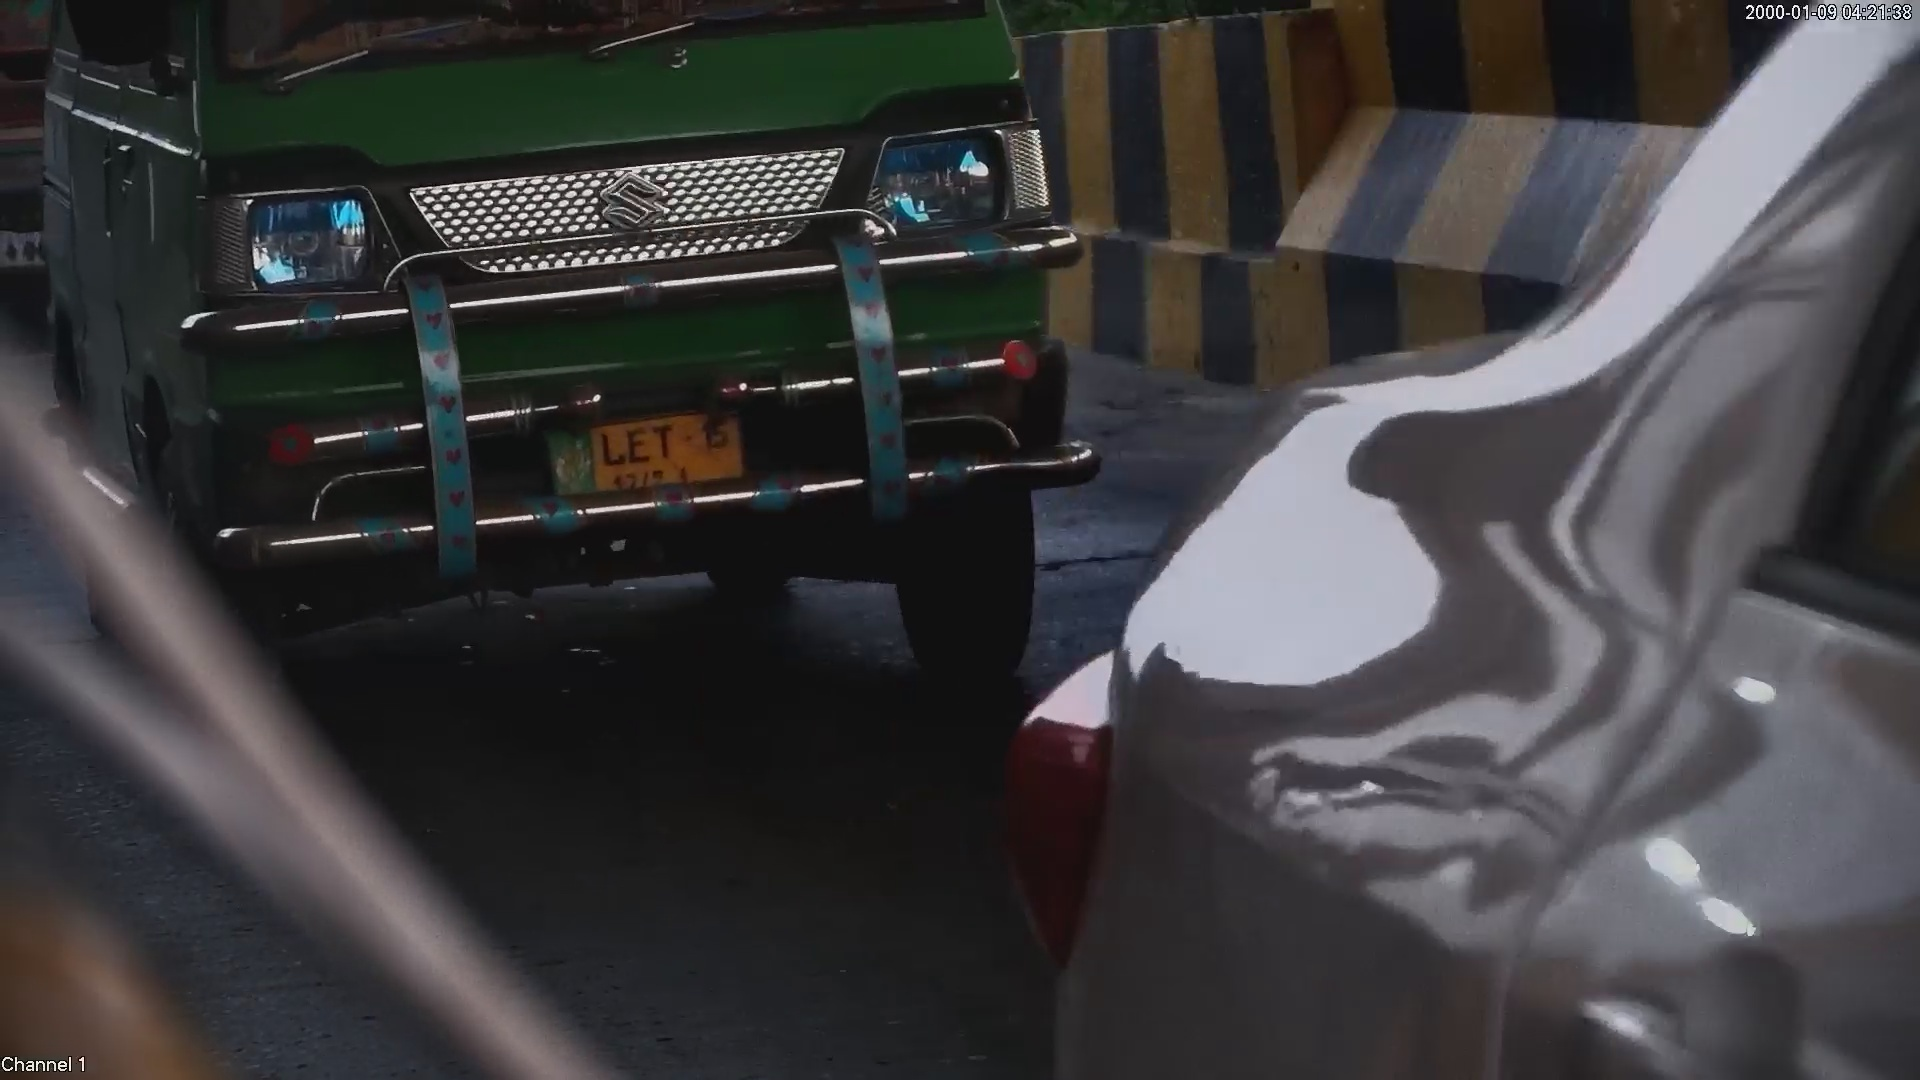Number_Plate: (508, 388, 782, 516)
Undefined: (469, 149, 824, 257), (858, 103, 1043, 249), (193, 170, 408, 294)
